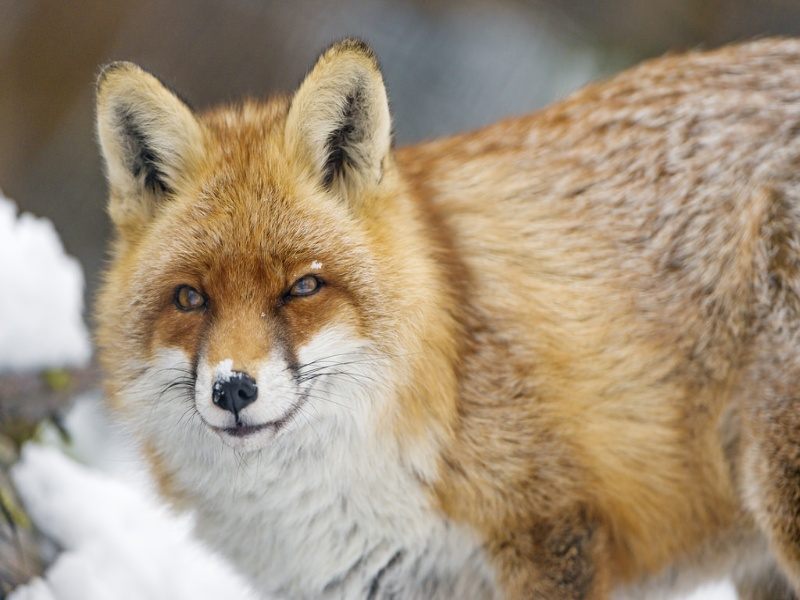fox: (81, 24, 797, 600)
